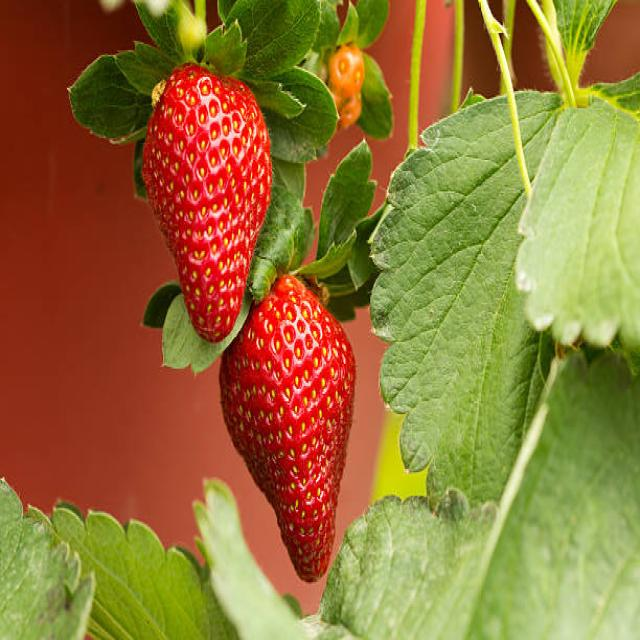Healthy Fruit: (218, 275, 355, 585), (142, 63, 270, 340)
